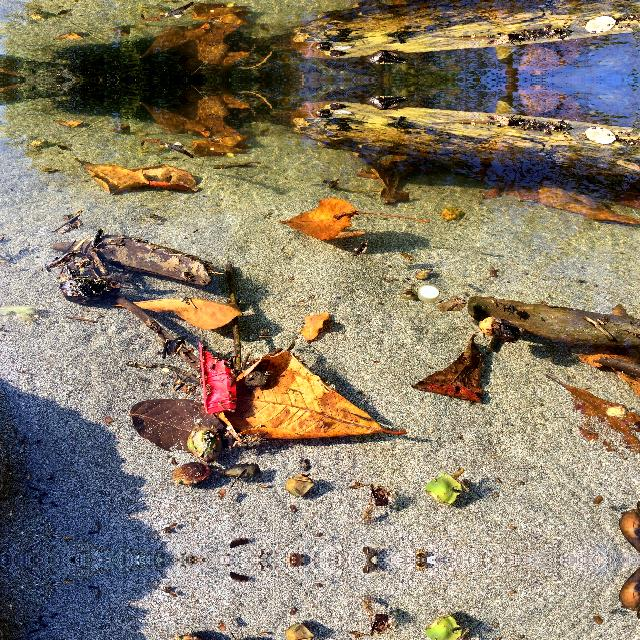Plastic: (197, 334, 249, 416), (410, 280, 444, 306)
